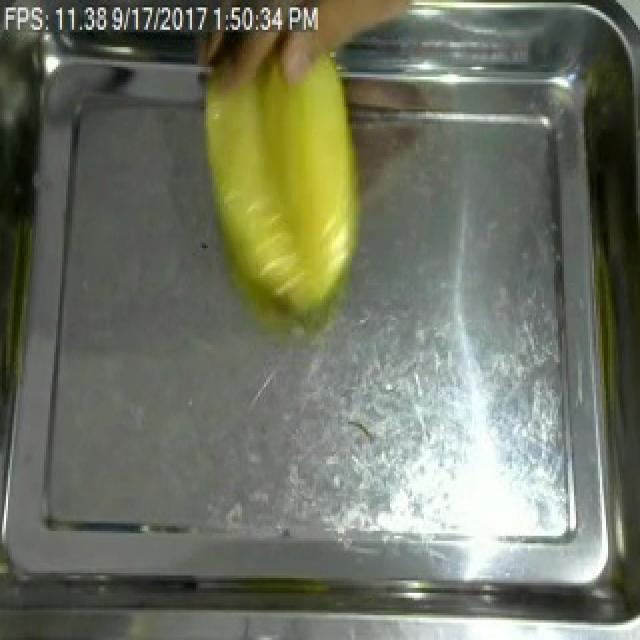fruit: (180, 15, 384, 327)
